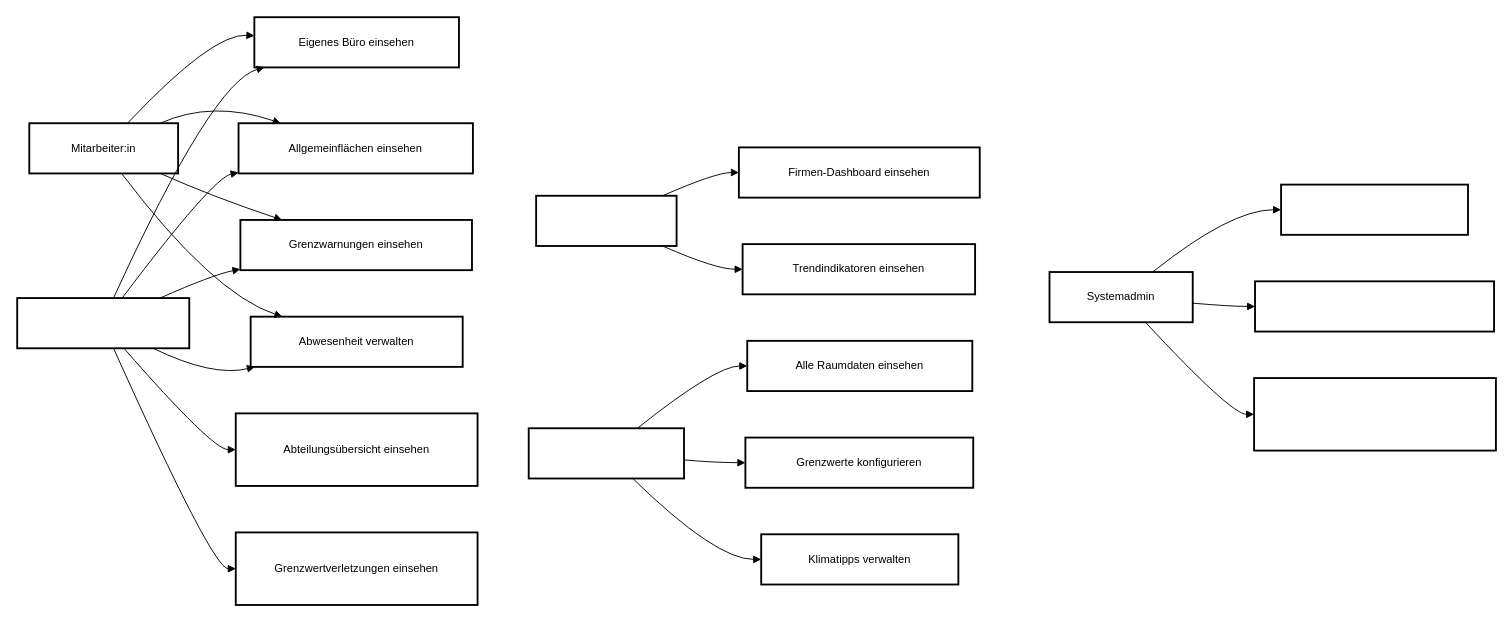
Some shapes in this 1512 by 621 pixel diagram are drawn without their labels. Each missing label, with the box of its shape:
Abteilungsleitung: (16, 297, 190, 349)
Benutzer verwalten: (1280, 183, 1468, 235)
Gebäudeadmin: (527, 427, 684, 479)
Gebäudestruktur verwalten: (1254, 280, 1495, 332)
Geräte anlegen und zuweisen: (1253, 377, 1496, 451)
Management: (535, 194, 677, 246)
